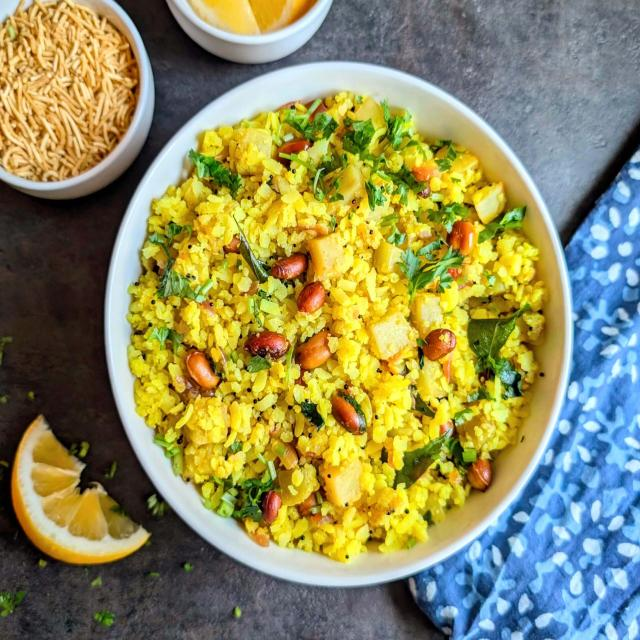UPMA: (125, 91, 548, 560)
